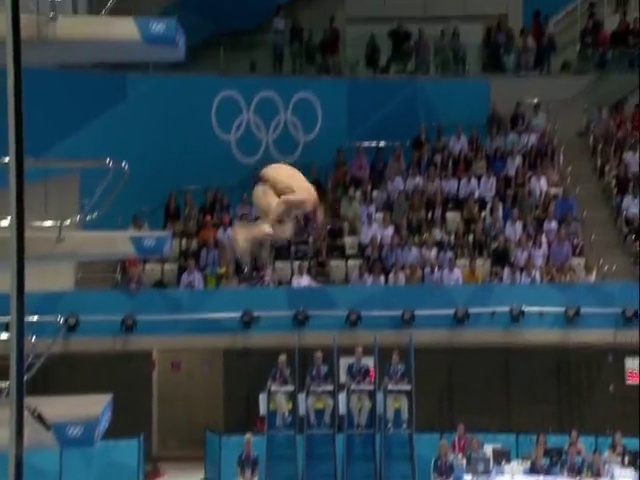diver: (232, 162, 325, 284)
